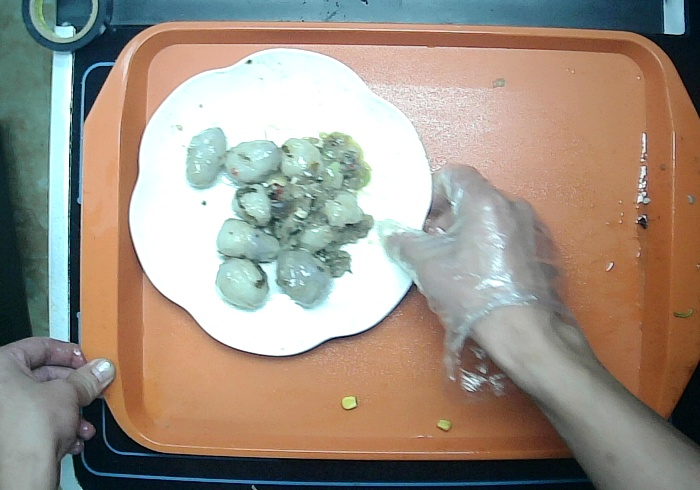HZYJPL-Bai_Se_Hua_Duo_Wan: (122, 41, 441, 362)
